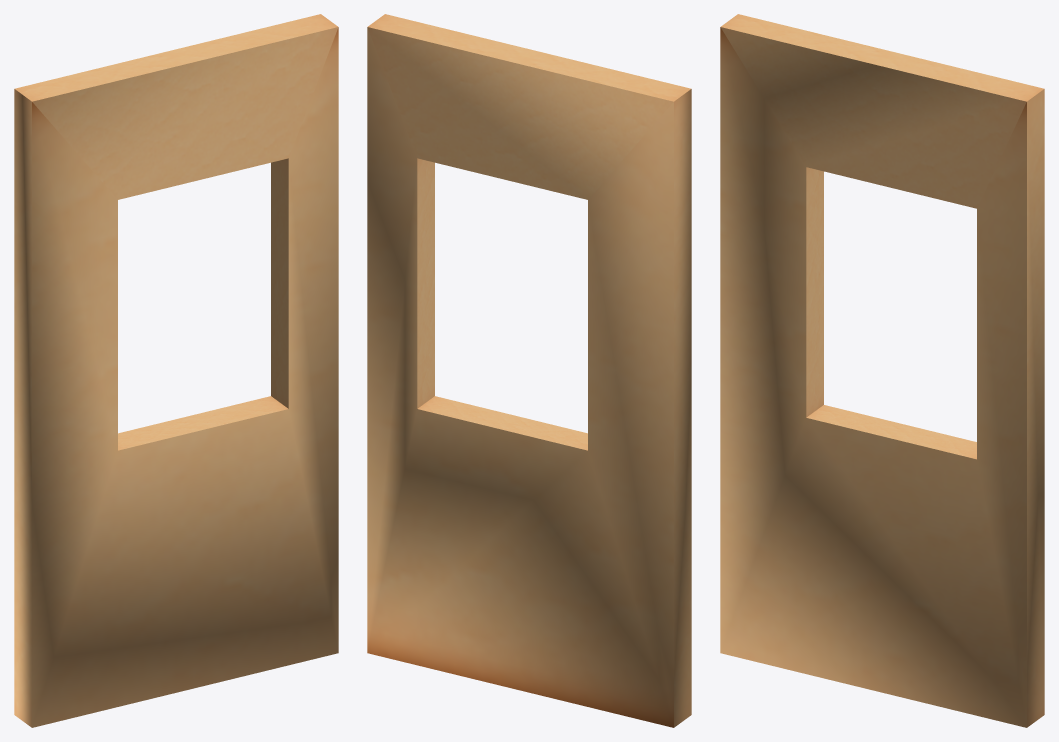
File: Door_Panel_B.fbx
3 renders of one model, left to right at view 1: azimuth 30°, elevation 25°; view 2: azimuth 150°, elevation 25°; view 3: azimuth 330°, elevation 25°, orthographic.
Visible parts, largest first — view 1: Door_Panel_B; view 2: Door_Panel_B; view 3: Door_Panel_B.
Boxes of the visible parts, x1,y1,x2,y2 form: Door_Panel_B: (14, 14, 338, 727); Door_Panel_B: (367, 14, 691, 727); Door_Panel_B: (720, 14, 1044, 727).
Size of the model in its own units: 1 by 1.95 by 0.1.
